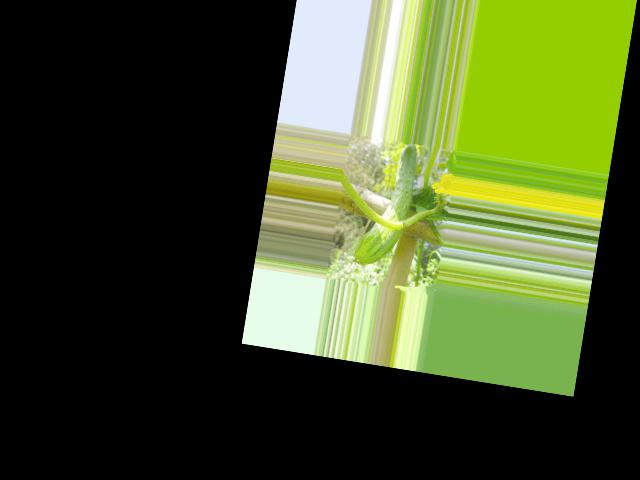cucumber: (353, 137, 420, 270)
